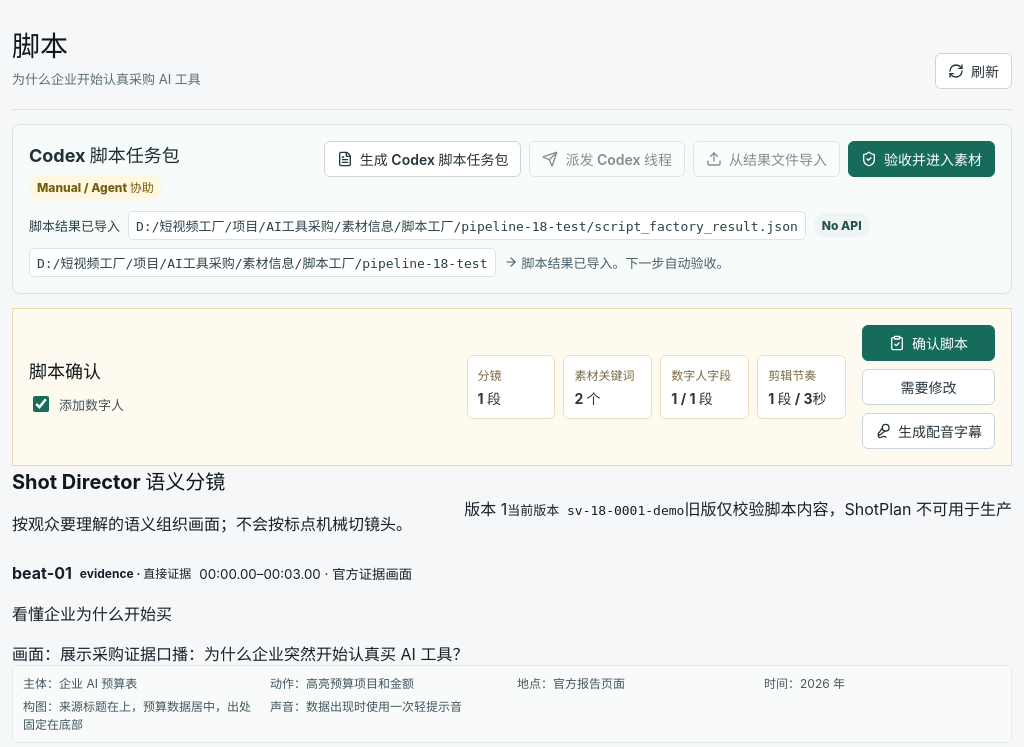
Test: 脚本工作台页面 › 可以关闭数字人并切换为配音字幕模式
The image size is (1024, 747).
Expected: the heading "脚本确认" is shown, [29, 361, 101, 382]
Click the checkbox labelled "添加数字人".
click(41, 404)  # box [33, 396, 49, 412]
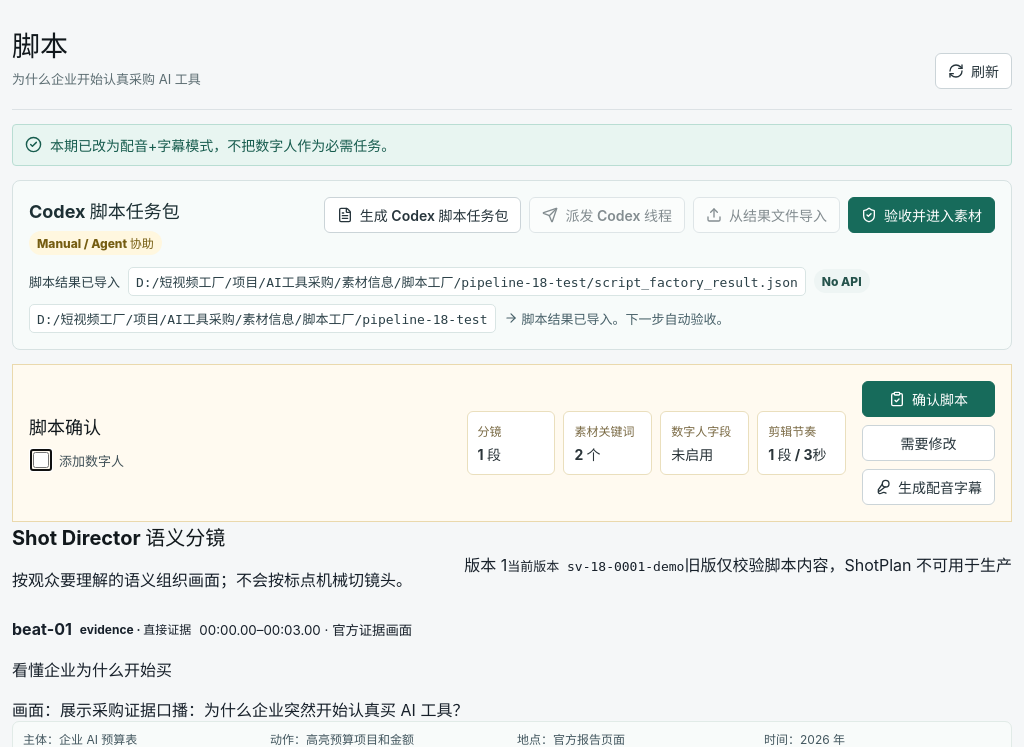
Expected: the checkbox labelled "添加数字人" is not checked, [33, 452, 49, 468]
Expected: the element named "脚本联动摘要" shows "未启用", [671, 446, 713, 463]
